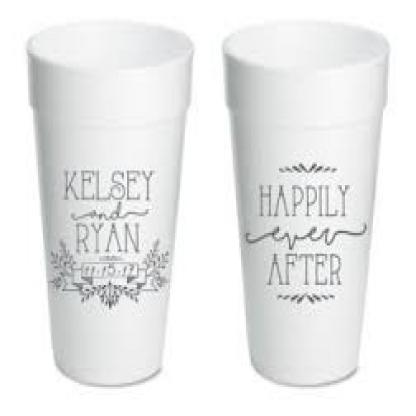paper: (219, 17, 388, 384), (27, 19, 192, 385)
